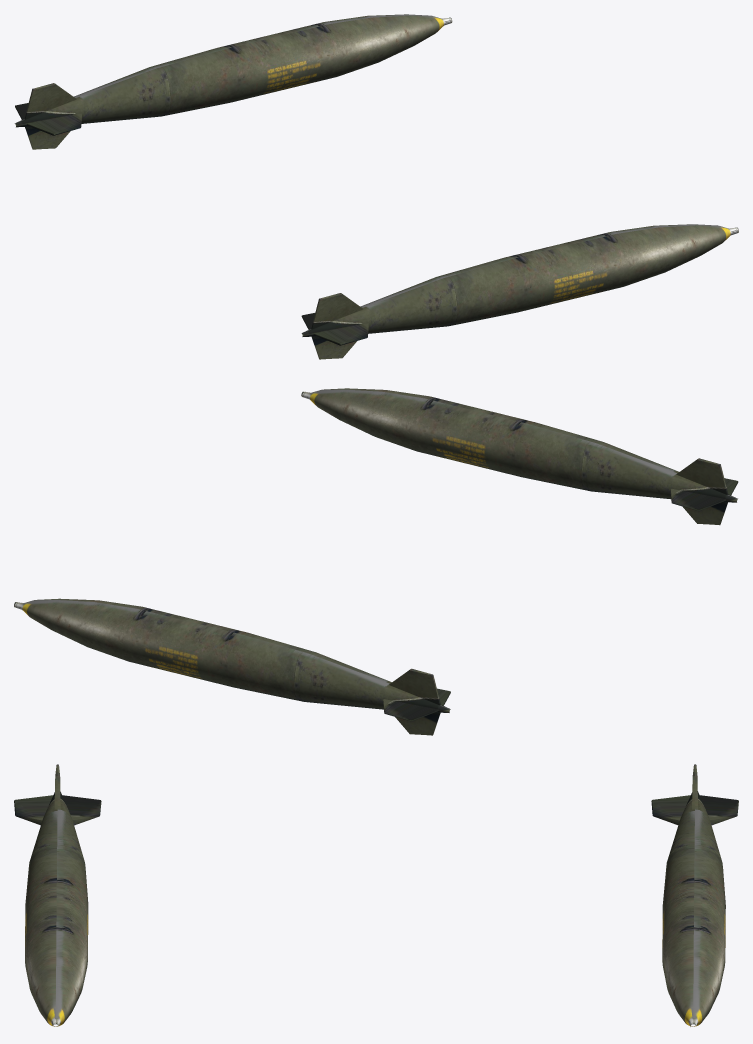
3 renders of one model, top to bottom at view 1: azimuth 30°, elevation 25°; view 2: azimuth 150°, elevation 25°; view 3: azimuth 270°, elevation 25°, orthographic. The views are drawn at different scales.
Parts seen in each view (by area): view 1: Circle, Circle.001; view 2: Circle.001, Circle; view 3: Circle, Circle.001.
Boxes of the visible parts, x1=… form: Circle: x1=14, y1=14, x2=452, y2=149; Circle.001: x1=301, y1=224, x2=738, y2=359; Circle.001: x1=301, y1=388, x2=738, y2=525; Circle: x1=14, y1=598, x2=450, y2=735; Circle: x1=651, y1=764, x2=738, y2=1026; Circle.001: x1=14, y1=764, x2=101, y2=1026.
Size of the model in its own units: 437 by 62.32 by 567.
Materials: 2 (2 with a texture image).
